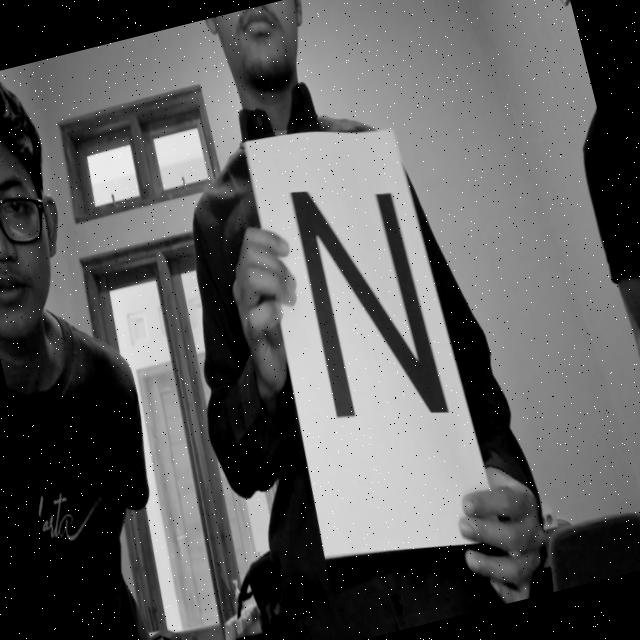n: (272, 155, 458, 469)
